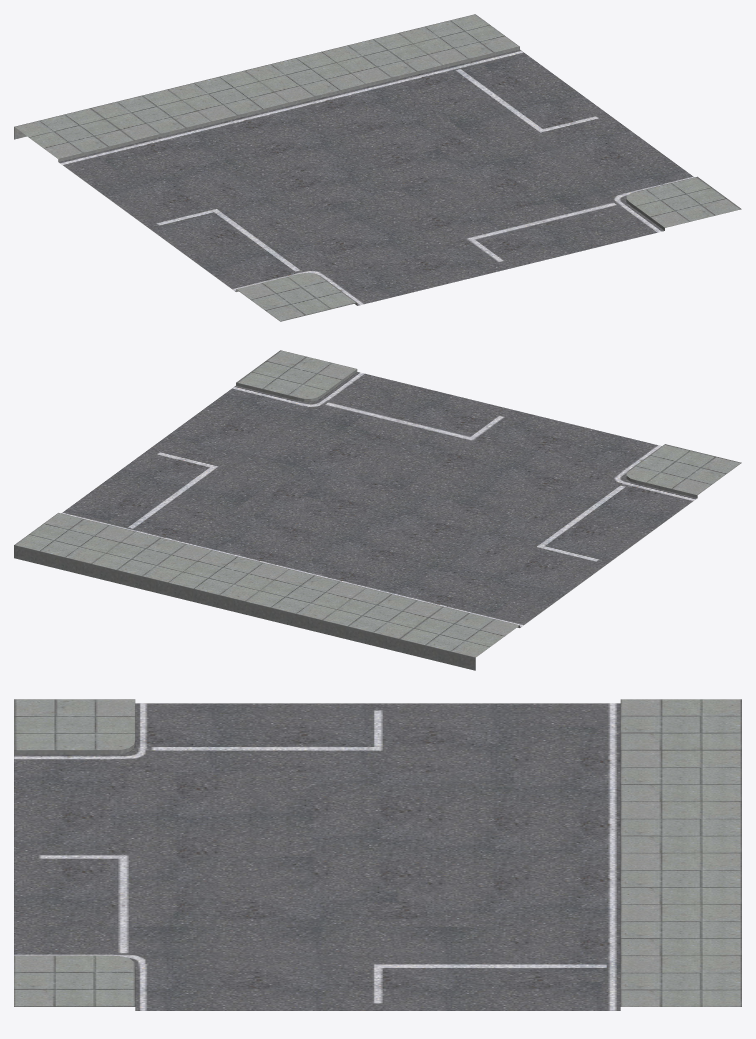
File: route_3_voies.fbx
The picture shows the model from 3 angles, top to bottom: view 1: azimuth 30°, elevation 25°; view 2: azimuth 150°, elevation 25°; view 3: azimuth 270°, elevation 25°; orthographic projection. The views are drawn at different scales.
Parts seen in each view (by area): view 1: Plane; view 2: Plane; view 3: Plane.
Part boxes in pixels (x1,y1,x2,y2): Plane: (14,14,741,321); Plane: (14,350,741,670); Plane: (14,699,741,1010).
Bounding box in the file's own units: 1200 × 32.09 × 1200.
